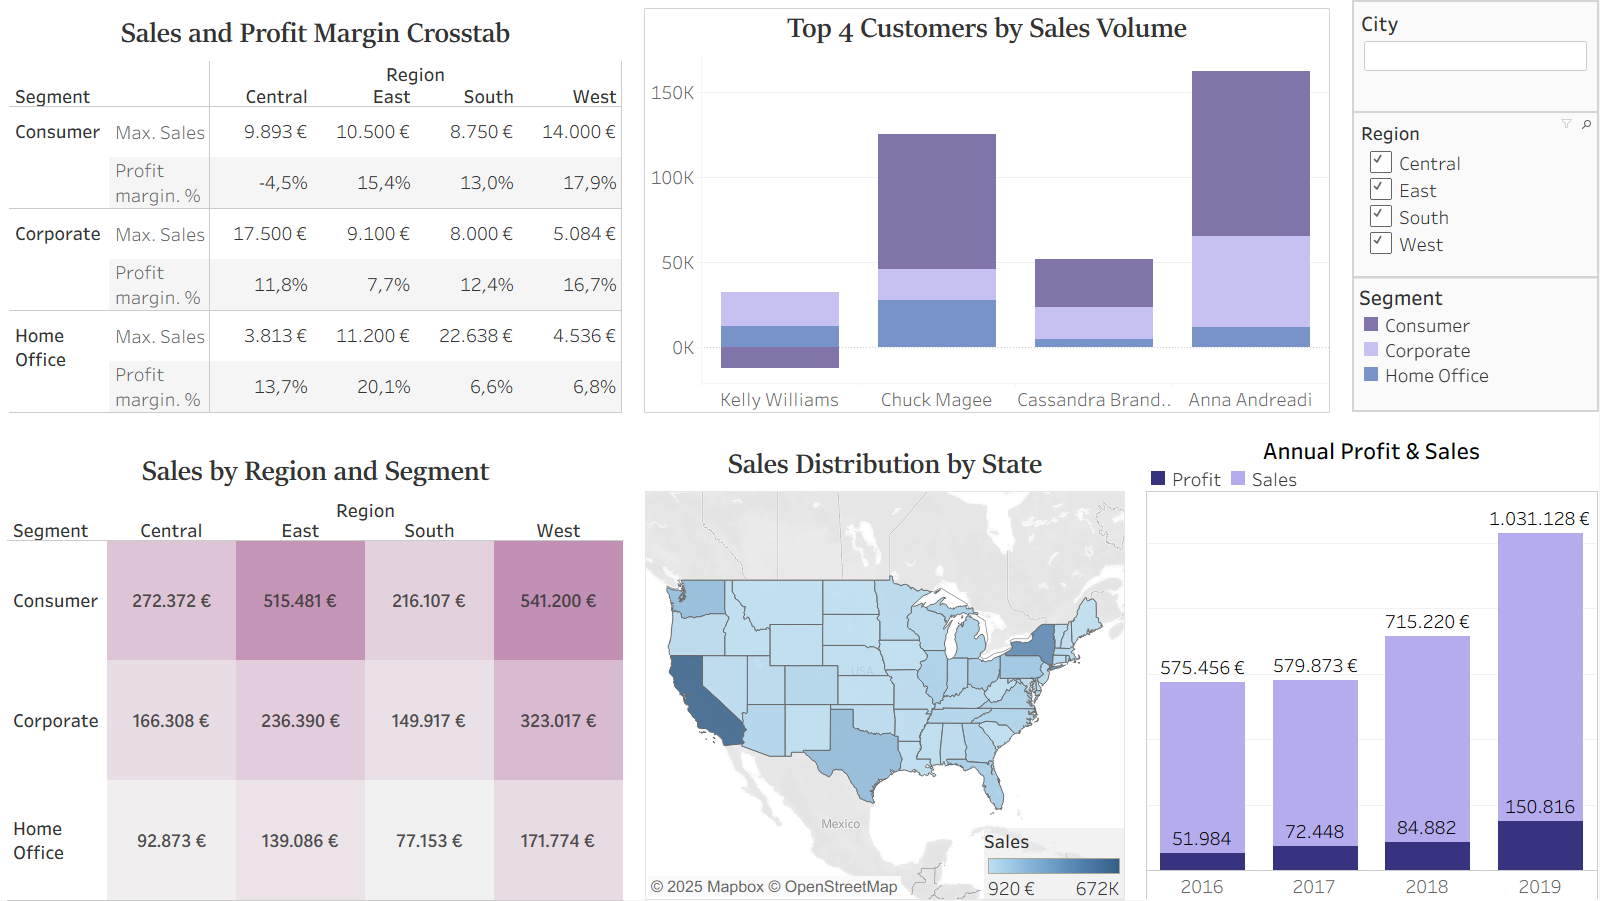

Layout of this report page (visuals, bound fields, positions):
{"tool":"tableau","page":{"name":"Dashboard","canvas":[1600,900],"ordinal":0},"visuals":[{"type":"filter","title":"Sales Distribution by State","param":"[federated.15zrnm10840vu21g7rqxs0pzn2s9].[none:City:nk]","box":[1353,0,247,113]},{"type":"worksheet","title":"Top 4 Customers by Sales Volume","mark":"Bar","rows":["Profit"],"cols":["Person"],"box":[645,8,686,405]},{"type":"worksheet","title":"Sales and Profit Margin Crosstab","mark":"Automatic","rows":["Segment"],"cols":["Region"],"box":[10,14,615,403]},{"type":"filter","title":"Annual Profit and Sales Volume","param":"[federated.15zrnm10840vu21g7rqxs0pzn2s9].[none:Region:nk]","box":[1353,111,247,168]},{"type":"legend","title":"Top 4 Customers by Sales Volume","param":"[federated.15zrnm10840vu21g7rqxs0pzn2s9].[none:Segment:nk]","box":[1353,276,247,136]},{"type":"legend","title":"Annual Profit and Sales Volume","param":"[federated.15zrnm10840vu21g7rqxs0pzn2s9].[:Measure Names]","box":[1147,435,451,65]},{"type":"worksheet","title":"Sales Distribution by State","mark":"Automatic","box":[646,446,480,454]},{"type":"worksheet","title":"Sales by Region and Segment","mark":"Square","rows":["Segment"],"cols":["Region"],"box":[8,452,619,449]},{"type":"worksheet","title":"Annual Profit and Sales Volume","mark":"Bar","rows":["Sales","Profit"],"cols":["Order Date"],"box":[1146,490,454,411]},{"type":"legend","title":"Sales Distribution by State","param":"[federated.15zrnm10840vu21g7rqxs0pzn2s9].[sum:Sales:qk]","box":[985,828,140,73]}]}

Visuals, with their boxes in screenshot pixels (x1, y1, x2, y2), scaled from the page's 1600x900 canvas onto the 1600x901 screenshot:
"Sales Distribution by State" filter: 1353, 0, 1599, 113
"Top 4 Customers by Sales Volume" worksheet (Bar marks): 645, 8, 1331, 413
"Sales and Profit Margin Crosstab" worksheet: 10, 14, 625, 417
"Annual Profit and Sales Volume" filter: 1353, 111, 1599, 279
"Top 4 Customers by Sales Volume" legend: 1353, 276, 1599, 412
"Annual Profit and Sales Volume" legend: 1147, 435, 1598, 501
"Sales Distribution by State" worksheet: 646, 446, 1126, 900
"Sales by Region and Segment" worksheet (Square marks): 8, 453, 627, 900
"Annual Profit and Sales Volume" worksheet (Bar marks): 1146, 491, 1599, 900
"Sales Distribution by State" legend: 985, 829, 1125, 900
